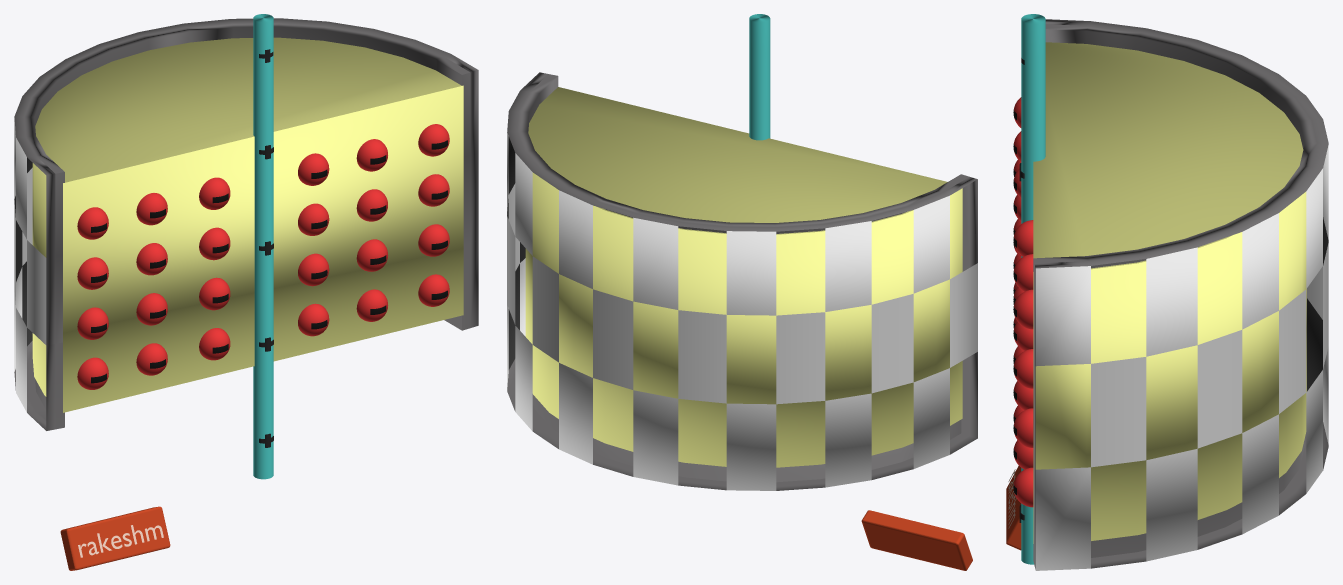
Rendered from portal.glb.
The picture shows the model from 3 angles, left to right: view 1: azimuth 30°, elevation 25°; view 2: azimuth 150°, elevation 25°; view 3: azimuth 270°, elevation 25°; orthographic projection. The views are drawn at different scales.
Parts seen in each view (by area): view 1: Cylinder.002, outercylinder, Cylinder, Cube.001, Sphere.003, Sphere.011, Sphere.023, Sphere.007, Sphere.019, Sphere.015; view 2: Cylinder.002, outercylinder, Cube.001, Cylinder; view 3: Cylinder.002, outercylinder, Cylinder, Sphere.023, Sphere.019, Cube.001, Sphere.015, Sphere.007.
Boxes of the visible parts, x1,y1,x2,y2 form: Cylinder.002: [32, 37, 463, 412]; outercylinder: [14, 18, 478, 430]; Cylinder: [253, 14, 273, 479]; Cube.001: [60, 506, 170, 570]; Sphere.003: [199, 177, 230, 360]; Sphere.011: [77, 207, 108, 389]; Sphere.023: [418, 124, 449, 306]; Sphere.007: [136, 193, 167, 375]; Sphere.019: [356, 139, 387, 321]; Sphere.015: [298, 153, 329, 336]; Cylinder.002: [525, 87, 962, 467]; outercylinder: [507, 72, 977, 490]; Cube.001: [861, 510, 972, 570]; Cylinder: [749, 14, 770, 140]; Cylinder.002: [1033, 42, 1306, 543]; outercylinder: [1033, 19, 1328, 570]; Cylinder: [1019, 14, 1045, 564]; Sphere.023: [1013, 289, 1033, 507]; Sphere.019: [1013, 254, 1033, 469]; Cube.001: [1006, 465, 1021, 550]; Sphere.015: [1013, 220, 1033, 422]; Sphere.007: [1013, 131, 1021, 327].
Size of what is drawn, in the model's own units: 9.02 by 9.99 by 4.93.
